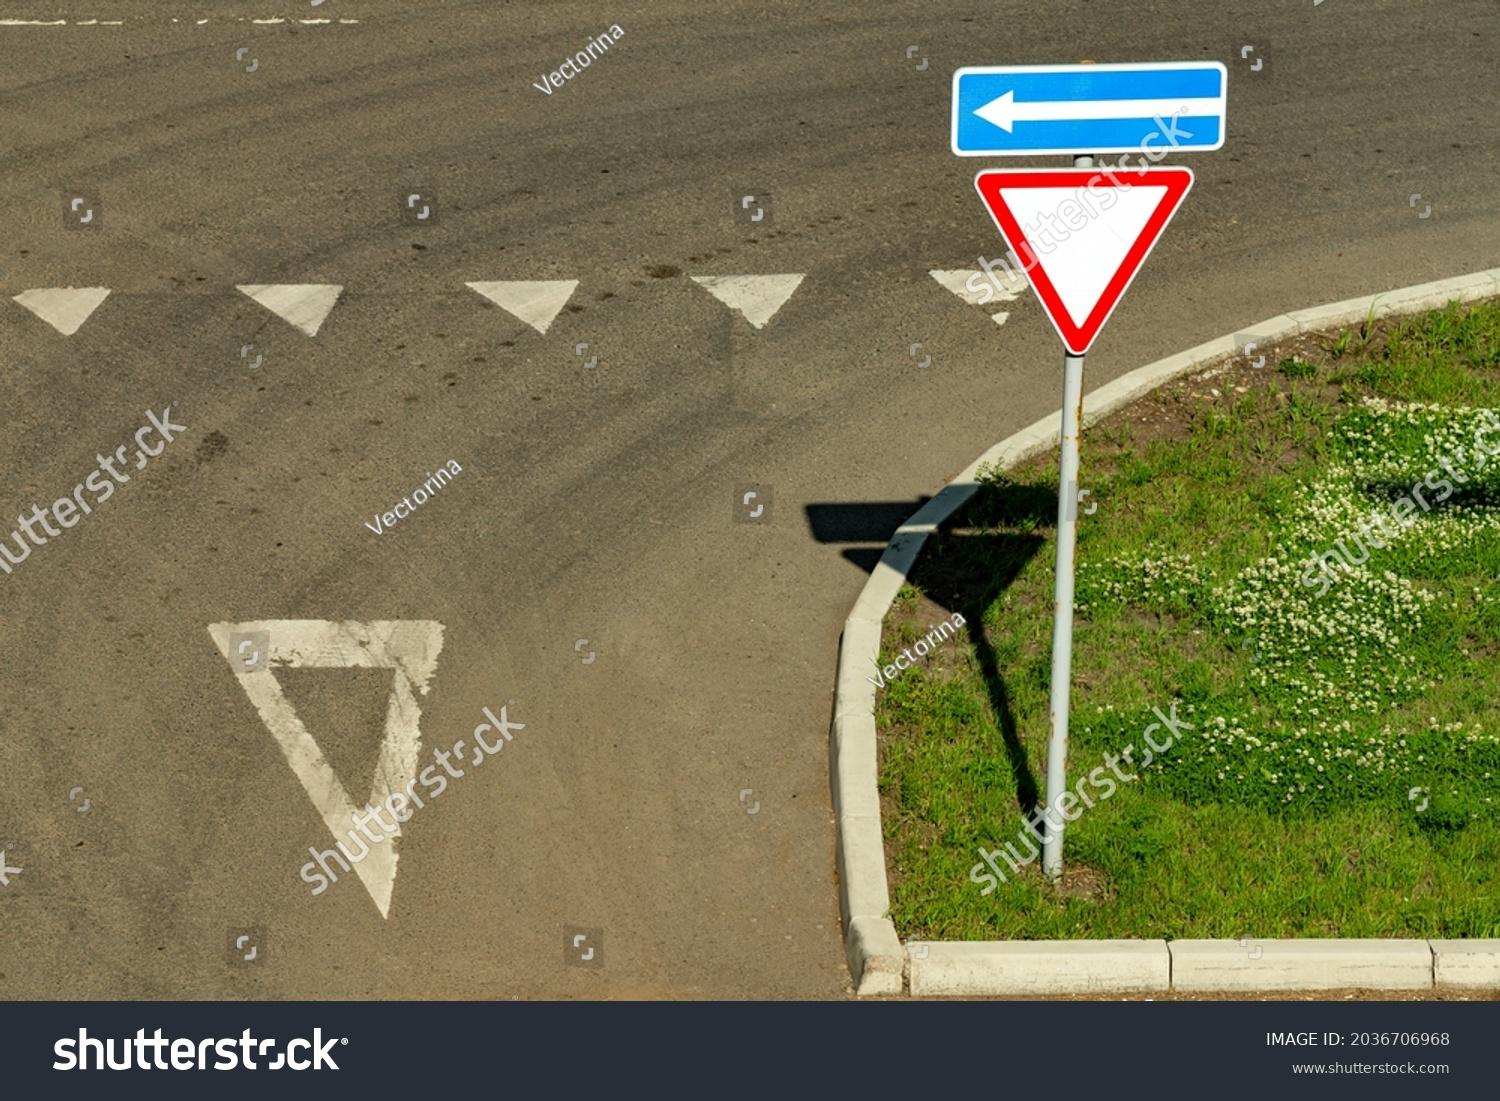Give Way: (991, 181, 1180, 361)
